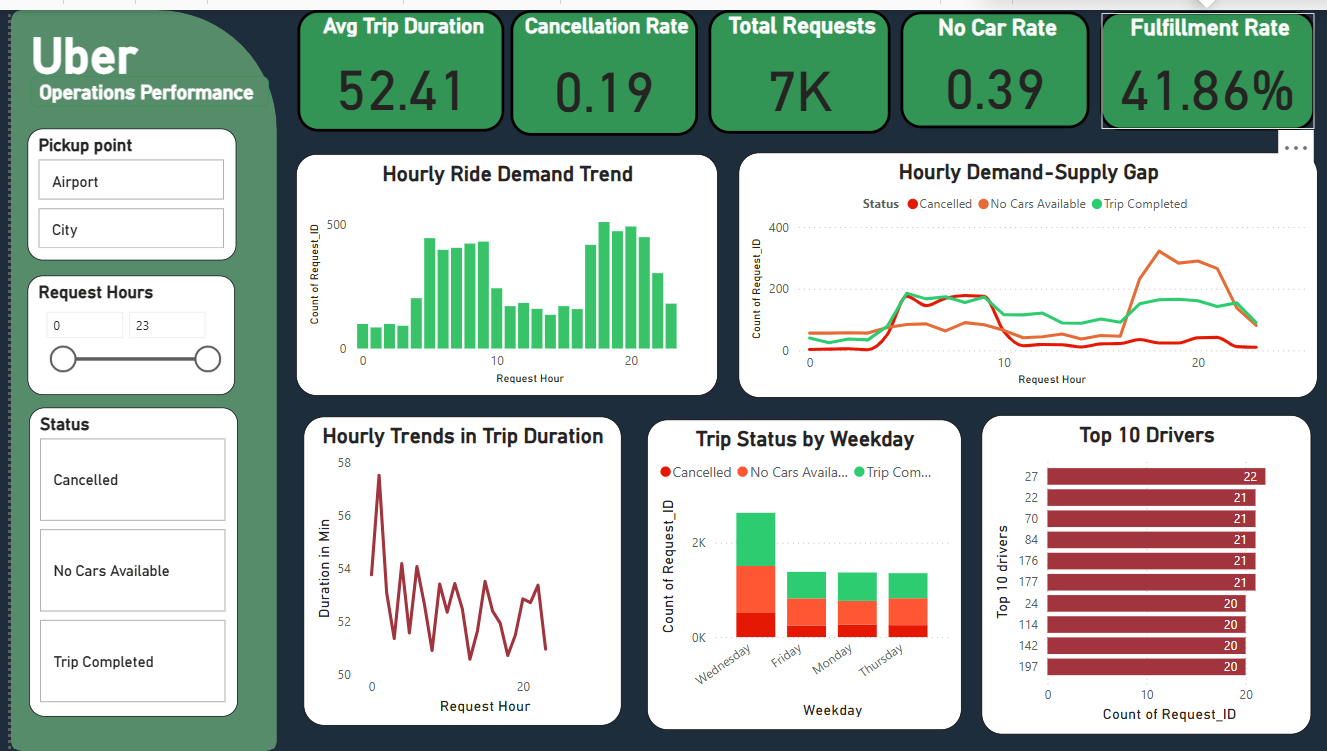

This screenshot's page, from the dashboard's own definition file:
{"tool":"powerbi","page":{"name":"Page 1","canvas":[1280,720],"ordinal":0},"visuals":[{"type":"clusteredColumnChart","title":"Hourly Ride Demand Trend","fields":{"Category":["Dashboard.Request Hour"],"Y":["CountNonNull(Dashboard.Request_ID)"]},"box":[276.9,139.3,409.7,234.8],"z":0},{"type":"donutChart","title":"Pickup Point vs Status Comparison","fields":{"Category":["Dashboard.Pickup point"],"Y":["CountNonNull(Dashboard.Request_ID)"]},"box":[333.3,478.3,185,181.7],"z":1000},{"type":"columnChart","title":"Trip Status by Weekday","fields":{"Category":["Dashboard.Weekday"],"Series":["Dashboard.Status"],"Y":["CountNonNull(Dashboard.Request_ID)"]},"box":[616.7,396.7,305.6,301.1],"z":2000},{"type":"card","title":"Total Requests\t","fields":{"Values":["Dashboard.Total Requests"]},"box":[676.7,0,176.7,120],"z":3000},{"type":"card","title":"Fulfillment Rate","fields":{"Values":["Dashboard.Fulfillment Rate"]},"box":[1056.7,1.7,208.3,115],"z":4000},{"type":"card","title":"Cancellation Rate","fields":{"Values":["Dashboard.Cancellation Rate"]},"box":[485,0,181.7,121.7],"z":5000},{"type":"card","title":"No Car Rate\t","fields":{"Values":["Dashboard.No Car Rate"]},"box":[863.3,1.7,183.3,113.3],"z":6000},{"type":"card","title":"Avg Trip Duration","fields":{"Values":["Dashboard.Avg Trip Duration (min)"]},"box":[278.5,0,200.8,118.2],"z":7000},{"type":"lineChart","title":"Hourly Demand-Supply Gap","fields":{"Category":["Dashboard.Request Hour"],"Y":["CountNonNull(Dashboard.Request_ID)"],"Series":["Dashboard.Status"]},"box":[706,138,562,238],"z":8000},{"type":"shape","box":[0,0,258,720],"z":9000},{"type":"textbox","title":"Uber","box":[14.6,16.2,145.7,61.5],"z":10000},{"type":"advancedSlicerVisual","fields":{"Values":["Dashboard.Pickup point"]},"box":[16.2,115,202.4,127.9],"z":11000},{"type":"slicer","title":"Request Hours","fields":{"Values":["Dashboard.Request Hour"]},"box":[16.2,257.5,201.2,116.2],"z":12000},{"type":"clusteredBarChart","title":"Top 10 Drivers","fields":{"Category":["Dashboard.Driver id"],"Y":["CountNonNull(Dashboard.Request_ID)"]},"box":[941.7,393.3,320,310],"z":13000},{"type":"advancedSlicerVisual","fields":{"Values":["Dashboard.Status"]},"box":[17.5,385,202.5,300],"z":14000},{"type":"textbox","title":"Operations Performance","box":[18.8,63.8,231.2,30],"z":15000},{"type":"lineChart","title":"Hourly Trends in Trip Duration","fields":{"Category":["Dashboard.Request Hour"],"Y":["Avg(Dashboard.Trip_Duration_min)"]},"box":[283.3,395,308.3,300],"z":16000},{"type":"shape","box":[278.1,0,201.2,115],"z":17000},{"type":"shape","box":[488.1,3.8,178.8,115],"z":18000},{"type":"shape","box":[676.9,1.9,176.9,115],"z":19000},{"type":"shape","box":[865,2.5,176.9,112.5],"z":20000},{"type":"shape","box":[1057.5,3.1,207.5,112.5],"z":21000}]}

Visuals, with their boxes in screenshot pixels (x1, y1, x2, y2), scaled from the page's 1280x720 canvas onto the 1327x751 screenshot:
"Hourly Ride Demand Trend" clusteredColumnChart: l=287, t=145, r=712, b=390
"Pickup Point vs Status Comparison" donutChart: l=346, t=499, r=537, b=688
"Trip Status by Weekday" columnChart: l=639, t=414, r=956, b=728
"Total Requests	" card: l=702, t=0, r=885, b=125
"Fulfillment Rate" card: l=1096, t=2, r=1311, b=122
"Cancellation Rate" card: l=503, t=0, r=691, b=127
"No Car Rate	" card: l=895, t=2, r=1085, b=120
"Avg Trip Duration" card: l=289, t=0, r=497, b=123
"Hourly Demand-Supply Gap" lineChart: l=732, t=144, r=1315, b=392
shape: l=0, t=0, r=267, b=750
"Uber" textbox: l=15, t=17, r=166, b=81
advancedSlicerVisual - Dashboard.Pickup point: l=17, t=120, r=227, b=253
"Request Hours" slicer: l=17, t=269, r=225, b=390
"Top 10 Drivers" clusteredBarChart: l=976, t=410, r=1308, b=734
advancedSlicerVisual - Dashboard.Status: l=18, t=402, r=228, b=714
"Operations Performance" textbox: l=19, t=67, r=259, b=98
"Hourly Trends in Trip Duration" lineChart: l=294, t=412, r=613, b=725
shape: l=288, t=0, r=497, b=120
shape: l=506, t=4, r=691, b=124
shape: l=702, t=2, r=885, b=122
shape: l=897, t=3, r=1080, b=120
shape: l=1096, t=3, r=1311, b=121
